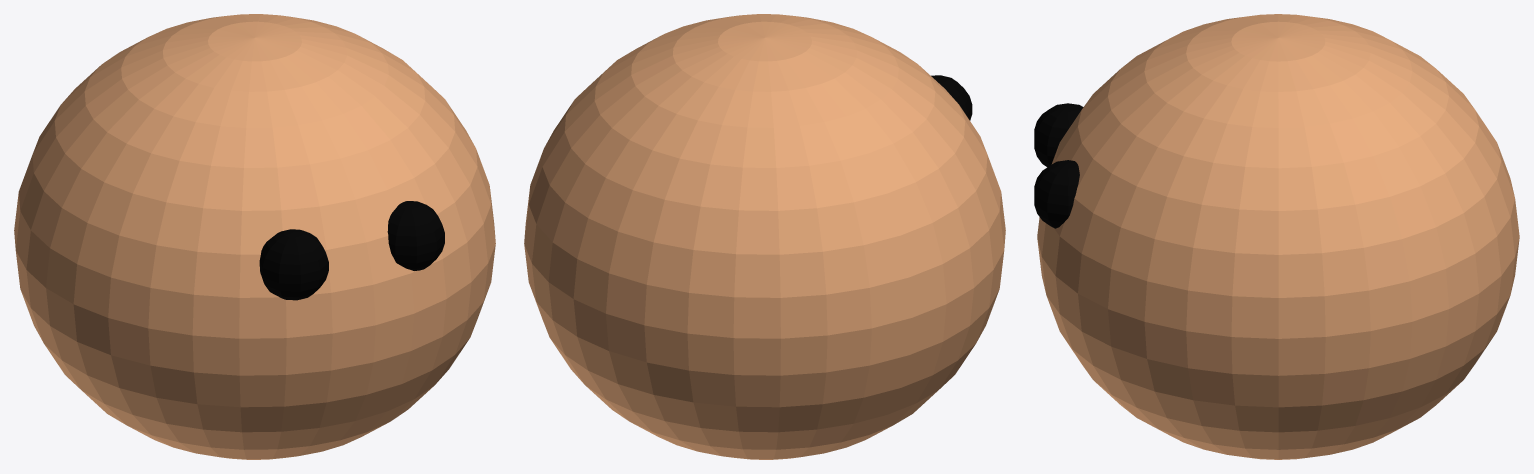
Rendered from head.fbx.
3 renders of one model, left to right at view 1: azimuth 30°, elevation 25°; view 2: azimuth 150°, elevation 25°; view 3: azimuth 270°, elevation 25°, orthographic.
Visible parts, largest first — view 1: ChelHead; view 2: ChelHead; view 3: ChelHead.
Part boxes in pixels (x1,y1,x2,y2): ChelHead: [14, 14, 495, 459]; ChelHead: [524, 14, 1005, 459]; ChelHead: [1034, 14, 1519, 459].
Bounding box in the file's own units: 79.56 × 72.45 × 80.04.
